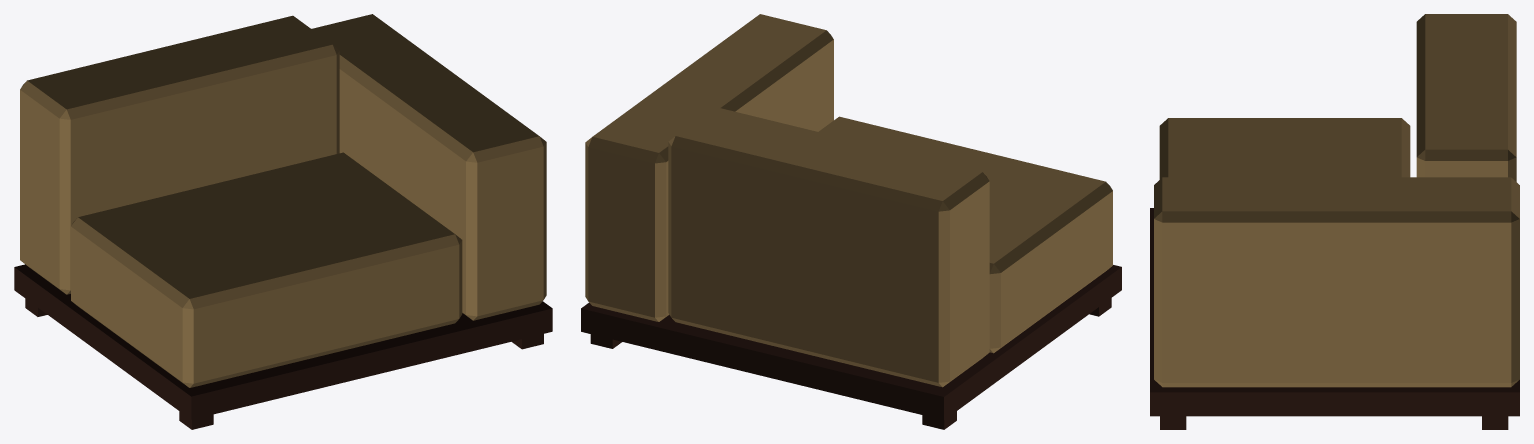
Rendered from Sofa 2.fbx.
3 views of the same model, side by side, from view 1: azimuth 30°, elevation 25°; view 2: azimuth 150°, elevation 25°; view 3: azimuth 270°, elevation 25° (orthographic). The views are drawn at different scales.
Visible parts, largest first — view 1: Node 0; view 2: Node 0; view 3: Node 0.
Boxes of the visible parts, bbox=[...] form: Node 0: bbox=[14, 14, 552, 429]; Node 0: bbox=[581, 14, 1121, 429]; Node 0: bbox=[1150, 14, 1519, 429].
Size of the model in its own units: 1.03 by 0.7322 by 1.22.
